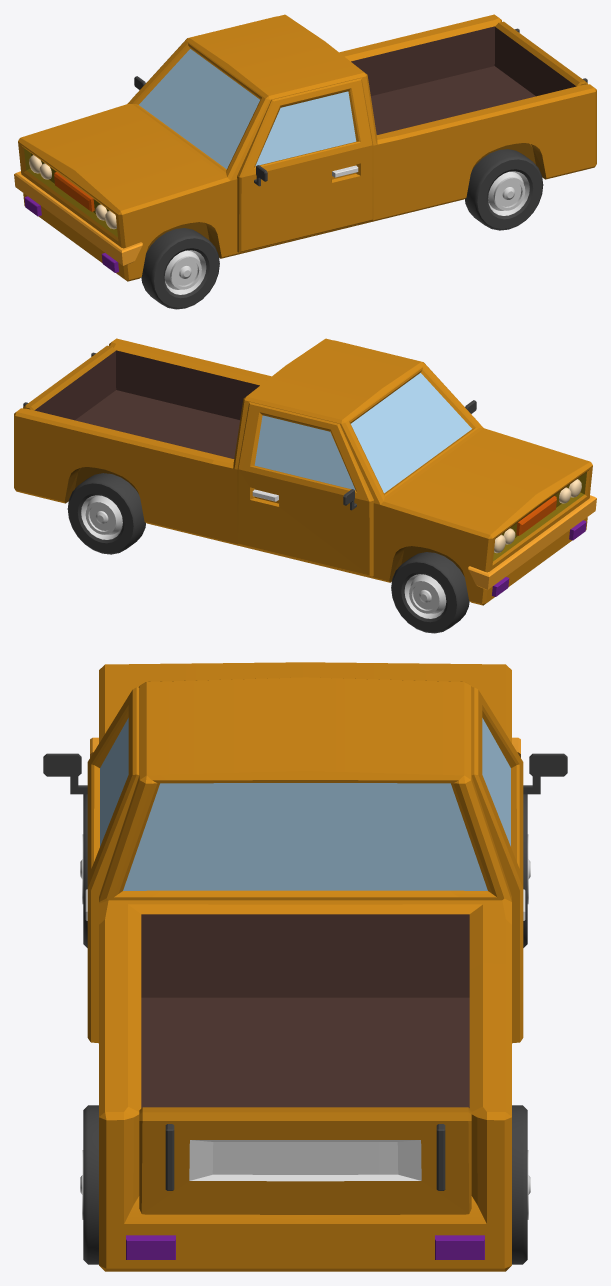
Rendered from Off_Road_Car_Brown.fbx.
The picture shows the model from 3 angles, top to bottom: view 1: azimuth 30°, elevation 25°; view 2: azimuth 150°, elevation 25°; view 3: azimuth 270°, elevation 25°; orthographic projection. The views are drawn at different scales.
Parts seen in each view (by area): view 1: than_xe, banh_xe, banh_xe1, cop_xe; view 2: than_xe, banh_xe3, banh_xe2, cop_xe; view 3: than_xe, cop_xe, banh_xe1, banh_xe2, banh_xe, banh_xe3.
Boxes of the visible parts, x1,y1,x2,y2 form: than_xe: (14, 14, 596, 281); banh_xe: (141, 228, 219, 309); banh_xe1: (465, 149, 543, 230); cop_xe: (494, 21, 587, 96); than_xe: (14, 338, 596, 605); banh_xe3: (391, 552, 469, 633); banh_xe2: (67, 473, 145, 554); cop_xe: (23, 345, 116, 420); than_xe: (43, 662, 567, 1271); cop_xe: (139, 1107, 471, 1214); banh_xe1: (80, 1105, 98, 1264); banh_xe2: (512, 1105, 530, 1264); banh_xe: (80, 794, 87, 947); banh_xe3: (523, 794, 530, 947).
Size of the model in its own units: 1764 by 626 by 825.
